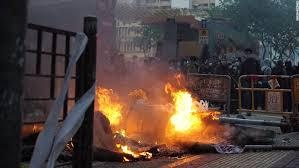fire: (162, 73, 219, 136), (95, 84, 137, 157), (114, 142, 151, 160)
